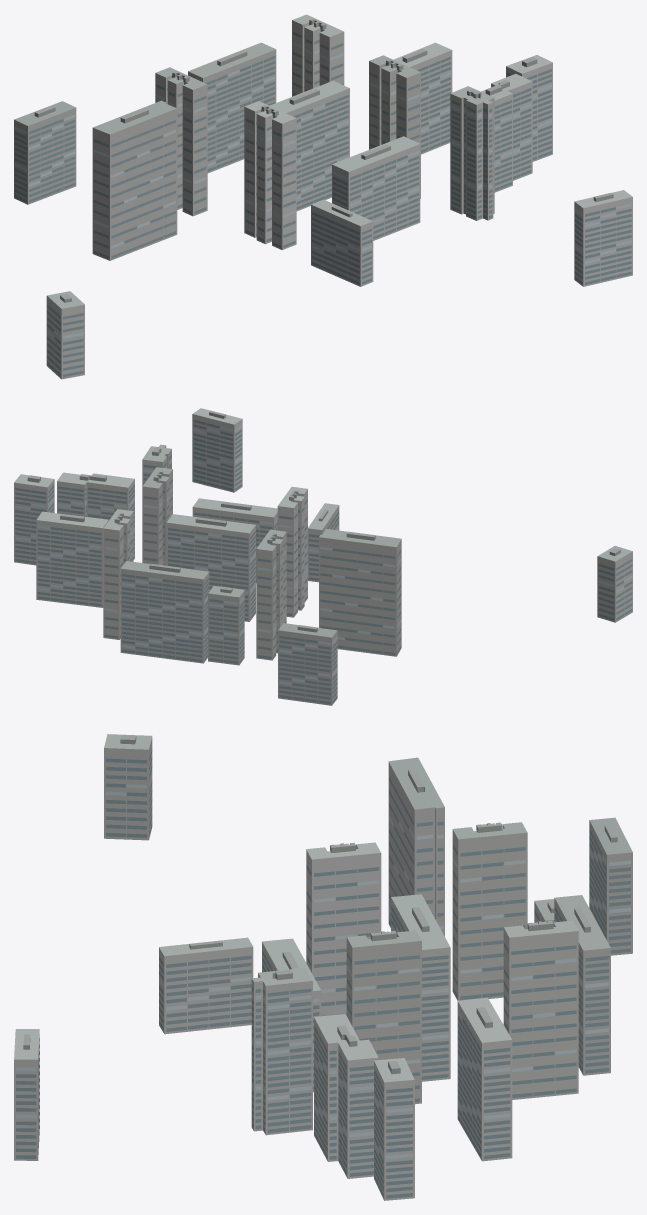
Rendered from apt-a13003202.glb.
3 views of the same model, one above another, from view 1: azimuth 30°, elevation 25°; view 2: azimuth 150°, elevation 25°; view 3: azimuth 270°, elevation 25° (orthographic). The views are drawn at different scales.
Visible parts, largest first — view 1: apt-a13003202; view 2: apt-a13003202; view 3: apt-a13003202.
Part boxes in pixels (box(x1,y1,x2,y2)): apt-a13003202: box(14, 14, 632, 379); apt-a13003202: box(14, 408, 632, 705); apt-a13003202: box(14, 734, 632, 1200).
Size of the model in its own units: 365 by 76 by 254.
